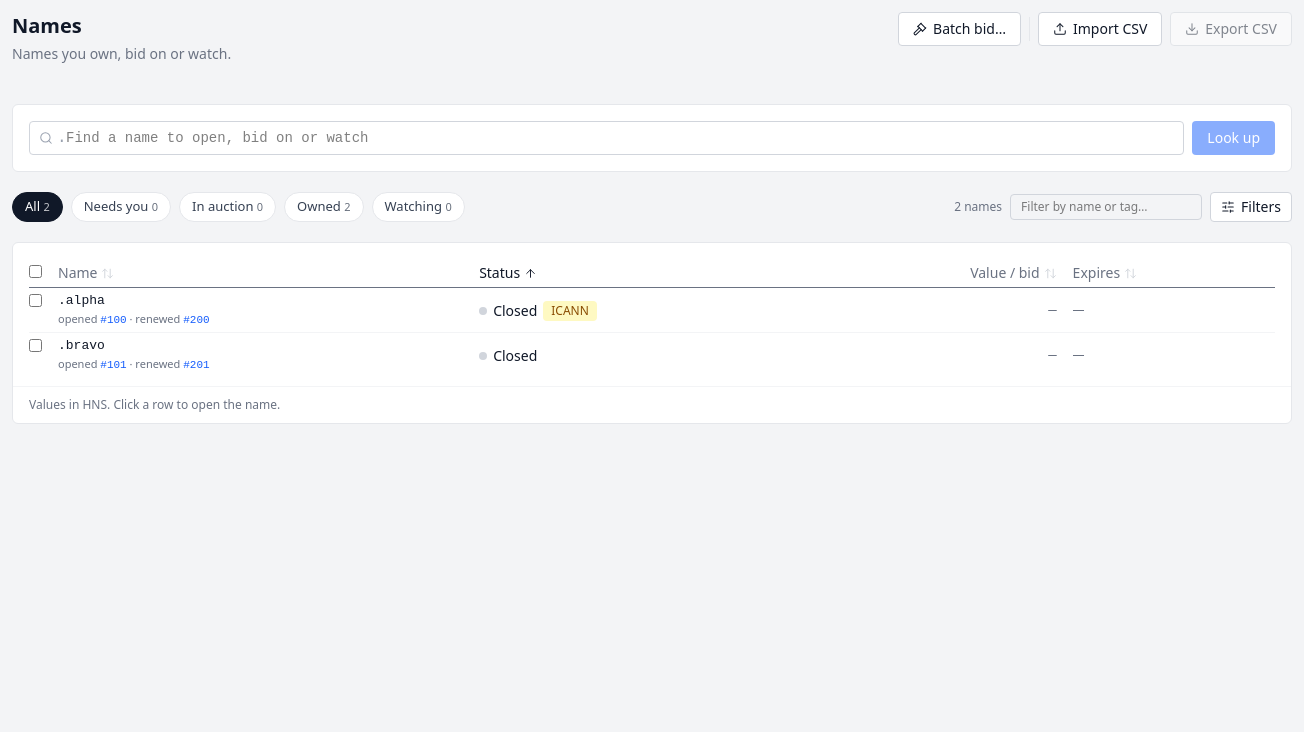
Scenario: NamesView — batch reveal/redeem/finalize › finalize button is disabled when any selected name isn't eligible
Expected: the text ".alpha" is shown, [58,292,105,311]
Expected: the text ".bravo" is shown, [58,337,105,356]
Click the checkbox named "Select alpha" at (36, 300), box [29,294,42,307]
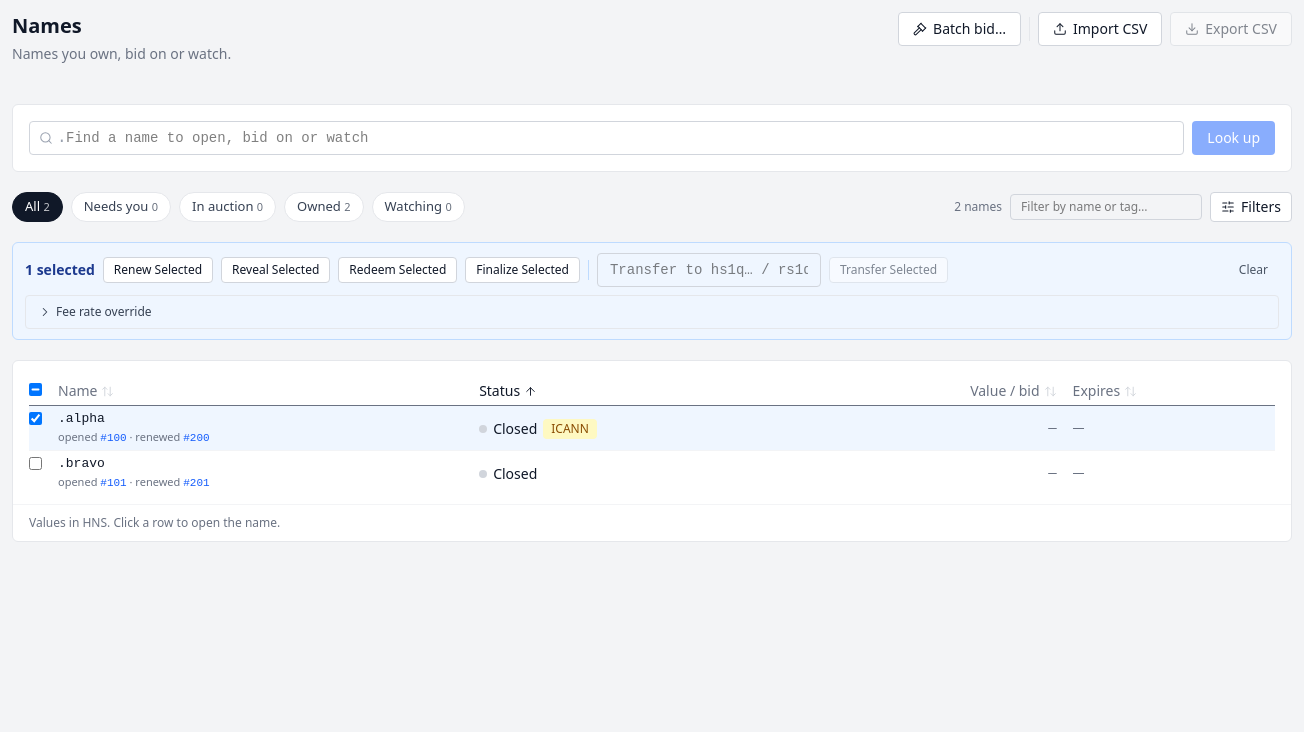
Click the checkbox named "Select bravo" at (36, 464), box [29,457,42,470]
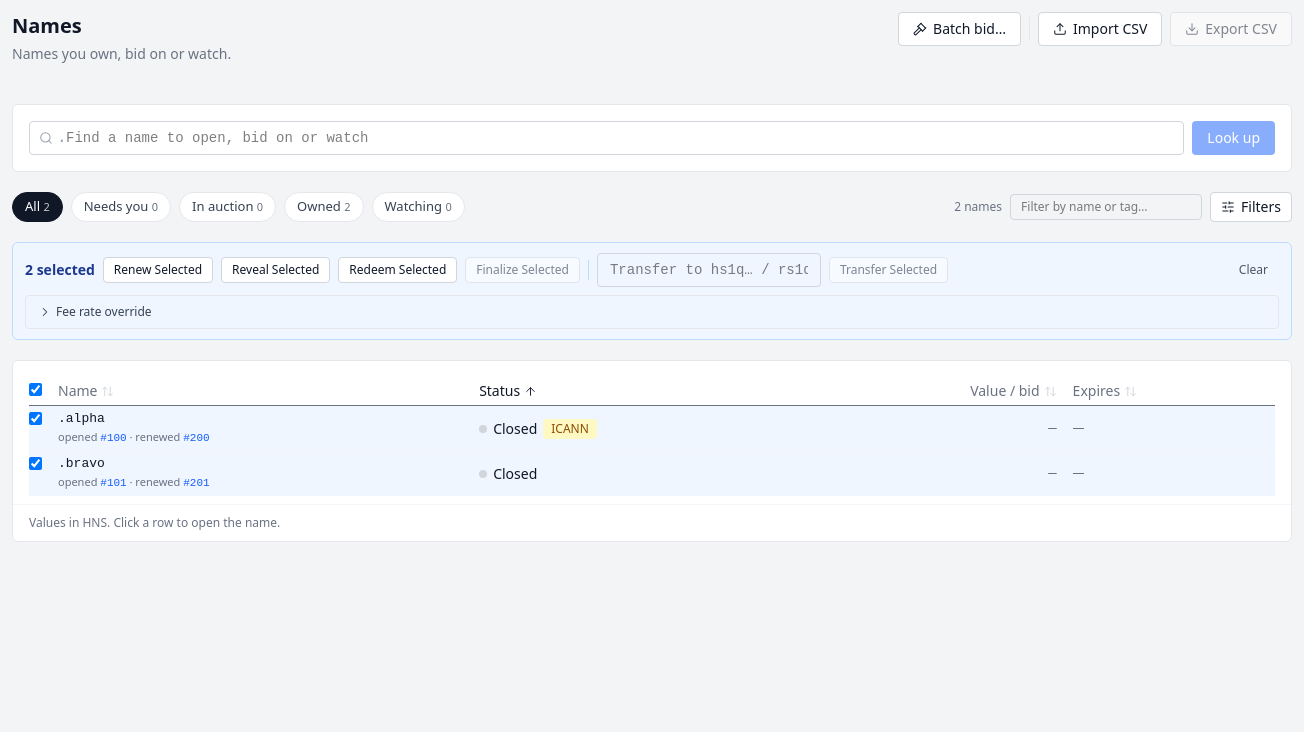
Expected: the button with test id "batch-reveal-btn" is shown, [221,257,330,283]
Expected: the button with test id "batch-finalize-btn" is disabled, [465,257,580,283]
